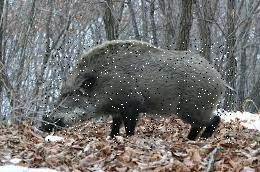Hog: (39, 39, 236, 143)
